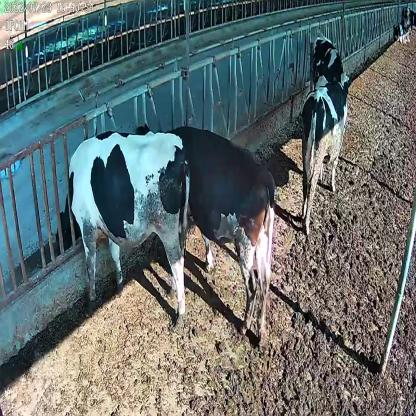cow: (140, 127, 276, 354), (54, 127, 192, 338), (298, 84, 356, 238), (310, 32, 352, 85)
